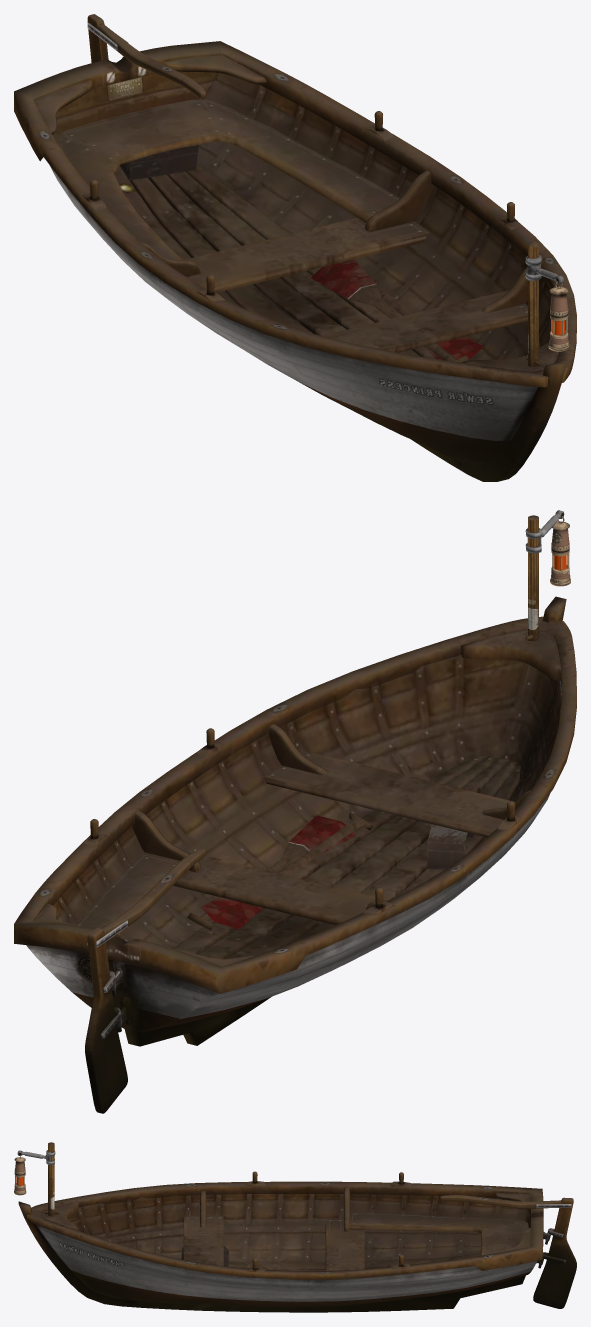
The model's file is rowboat.glb.
3 views of the same model, one above another, from view 1: azimuth 30°, elevation 25°; view 2: azimuth 150°, elevation 25°; view 3: azimuth 270°, elevation 25° (orthographic). The views are drawn at different scales.
Visible parts, largest first — view 1: defaultMaterial; view 2: defaultMaterial; view 3: defaultMaterial.
Boxes of the visible parts, x1,y1,x2,y2 form: defaultMaterial: [14, 14, 576, 481]; defaultMaterial: [14, 510, 576, 1113]; defaultMaterial: [14, 1142, 576, 1312].
Size of the model in its own units: 0.7774 by 0.6558 by 2.
Materials: 2 (1 with a texture image).
